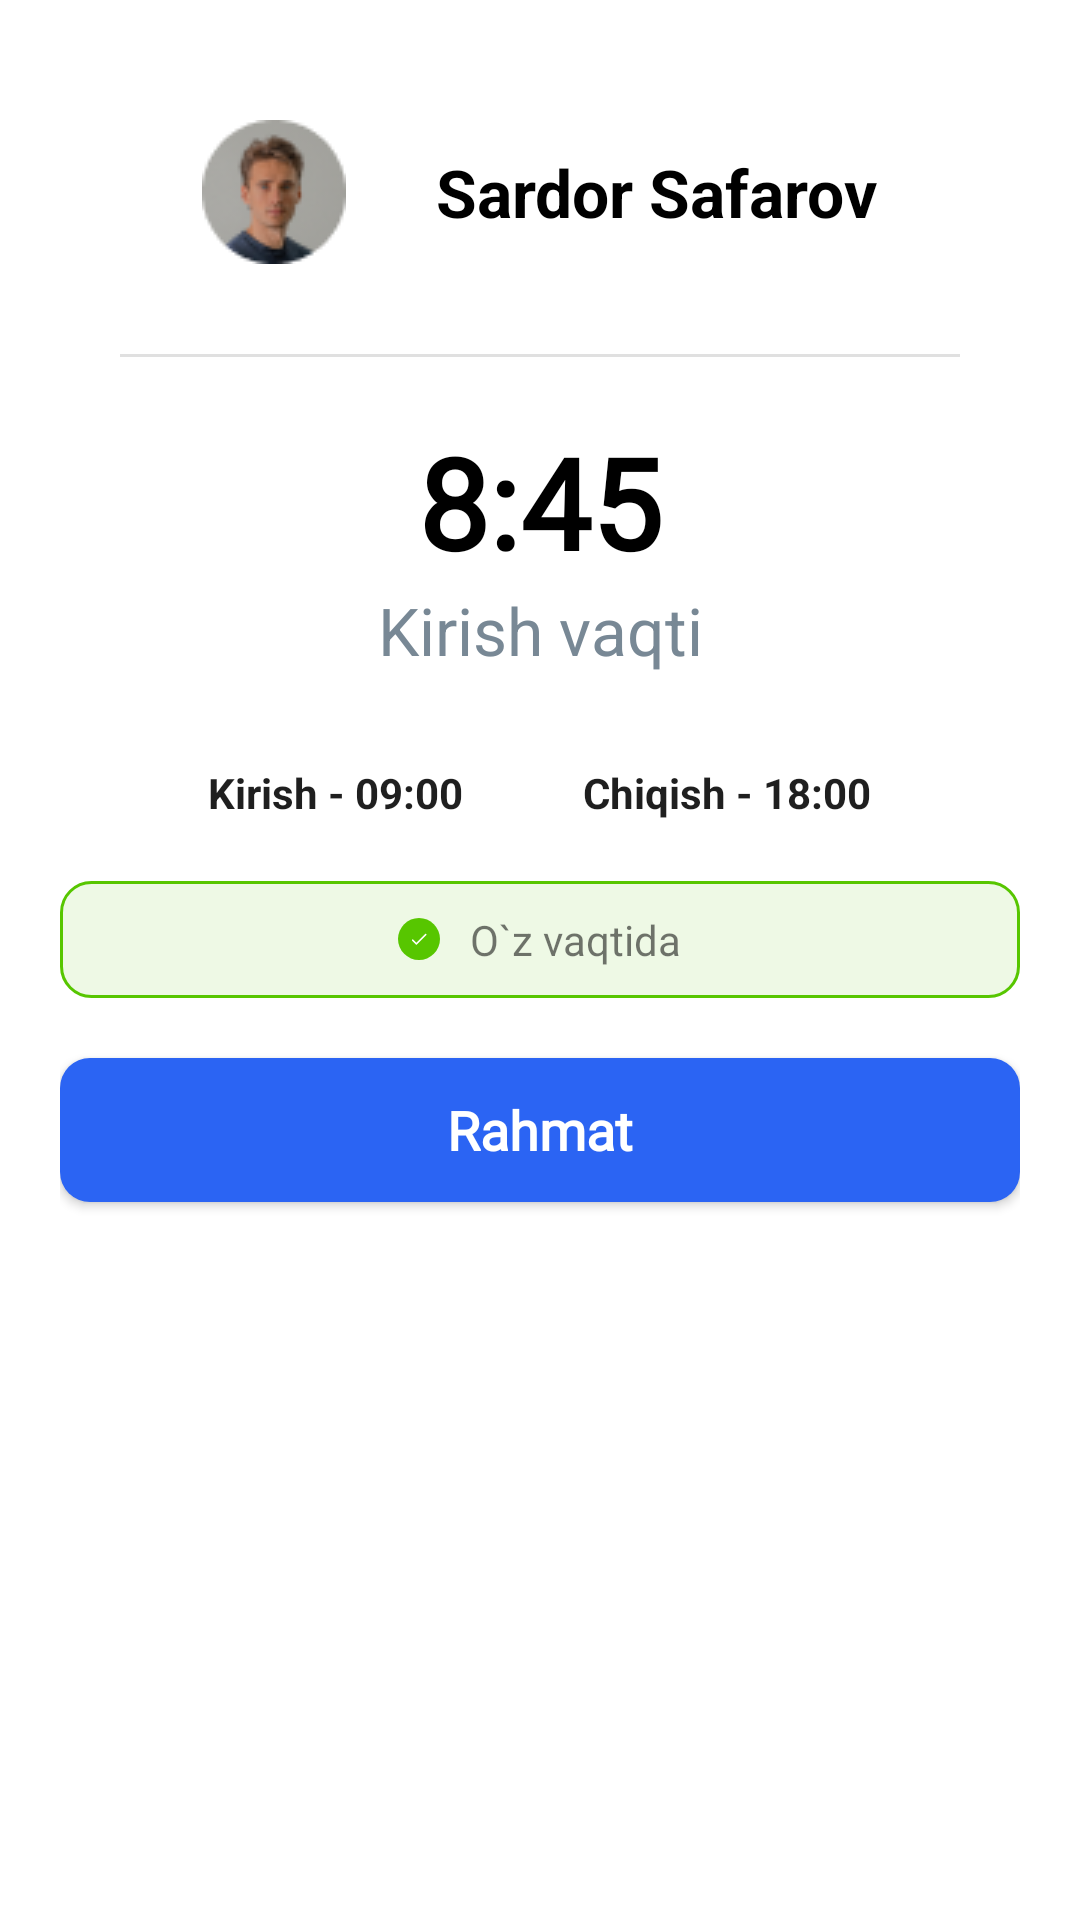

Screen size 1080px x 1920px. Icon name, then its center in pixels as [x,y]:
success: [419,939]
